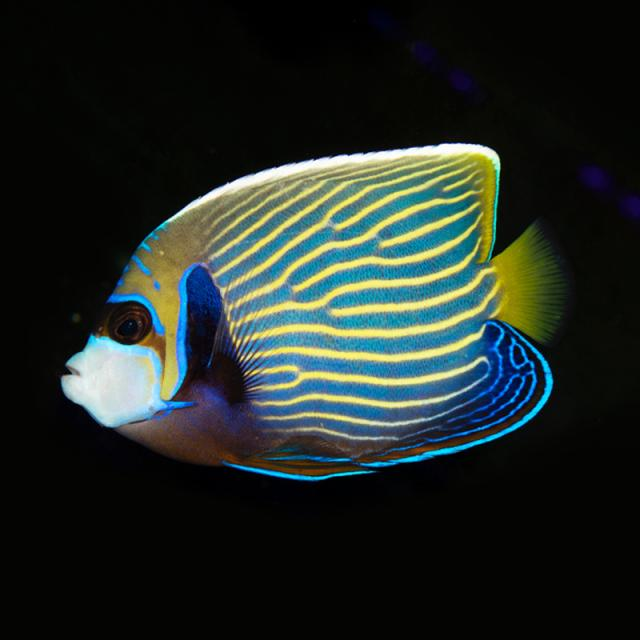AngelFish: (53, 140, 559, 482)
